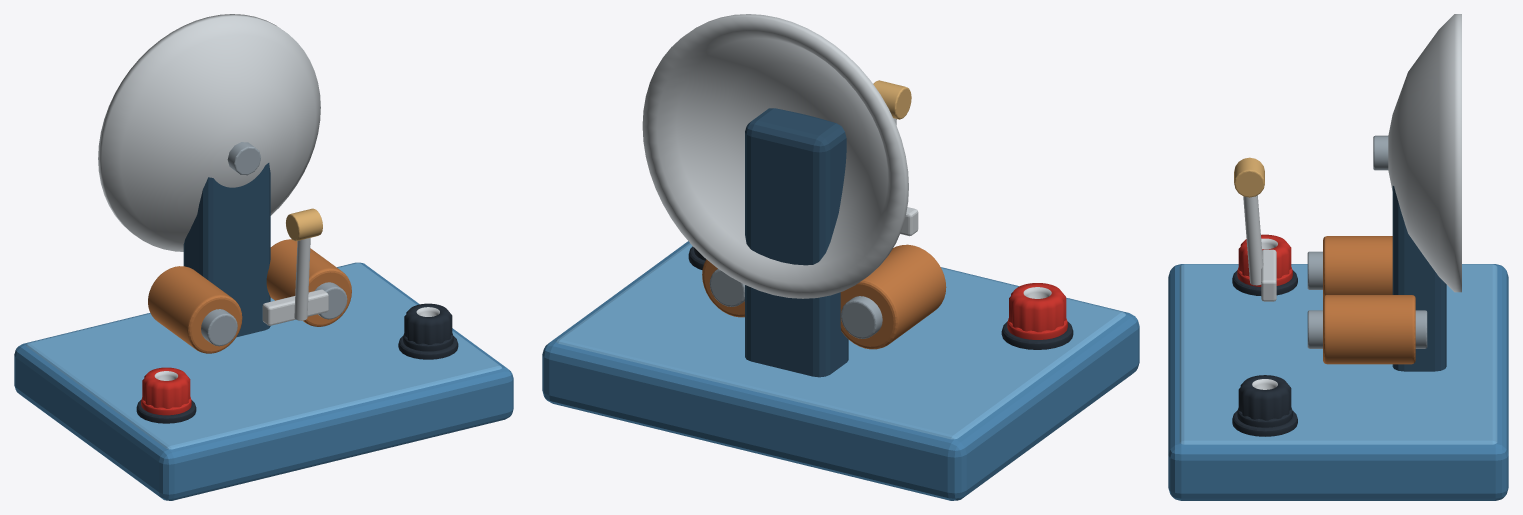
File: bell.glb
The picture shows the model from 3 angles, left to right: view 1: azimuth 30°, elevation 25°; view 2: azimuth 150°, elevation 25°; view 3: azimuth 270°, elevation 25°; orthographic projection. The views are drawn at different scales.
Visible parts, largest first — view 1: Pressed steel bell gong, Top shoulder, School bell base, Bell mounting upright, Electromagnet coil, Electromagnet coil.001, n binding socket, p binding socket, Spring element, Hammer rod, Electromagnet core, Striker head (+4 smaller); view 2: Pressed steel bell gong, Top shoulder, School bell base, Bell mounting upright, Electromagnet coil, p binding socket, Electromagnet core, Electromagnet core.001, Striker head, p socket washer, Electromagnet coil.001; view 3: Top shoulder, School bell base, Pressed steel bell gong, Electromagnet coil.001, Bell mounting upright, Electromagnet coil, n binding socket, Hammer rod, p binding socket, Electromagnet core.001, Striker head, Spring element (+5 smaller).
Part boxes in pixels (box(x1,y1,x2,y2)): Pressed steel bell gong: box(98, 14, 320, 251); Top shoulder: box(26, 263, 501, 449); School bell base: box(14, 262, 513, 500); Bell mounting upright: box(183, 163, 270, 337); Electromagnet coil: box(148, 266, 242, 353); Electromagnet coil.001: box(266, 239, 351, 326); n binding socket: box(404, 303, 452, 344); p binding socket: box(142, 367, 190, 408); Spring element: box(262, 289, 328, 325); Hammer rod: box(294, 238, 310, 320); Electromagnet core: box(201, 309, 237, 346); Striker head: box(286, 208, 322, 241); Pressed steel bell gong: box(642, 14, 908, 298); Top shoulder: box(556, 243, 1125, 439); School bell base: box(542, 241, 1139, 500); Bell mounting upright: box(745, 108, 848, 377); Electromagnet coil: box(840, 244, 946, 349); p binding socket: box(1009, 283, 1066, 332); Electromagnet core: box(841, 296, 882, 338); Electromagnet core.001: box(709, 269, 744, 306); Striker head: box(873, 80, 911, 119); p socket washer: box(1001, 321, 1073, 349); Electromagnet coil.001: box(702, 259, 744, 317); Top shoulder: box(1179, 264, 1497, 444); School bell base: box(1168, 264, 1508, 500); Pressed steel bell gong: box(1388, 14, 1461, 292); Electromagnet coil.001: box(1323, 295, 1415, 364); Bell mounting upright: box(1392, 186, 1446, 371); Electromagnet coil: box(1323, 236, 1392, 297); n binding socket: box(1238, 375, 1291, 420); Hammer rod: box(1243, 195, 1263, 285); p binding socket: box(1238, 234, 1291, 278); Electromagnet core.001: box(1307, 310, 1427, 348); Striker head: box(1234, 157, 1264, 197); Spring element: box(1261, 249, 1276, 301).
Size of the model in its own units: 0.116 by 0.111 by 0.088.
